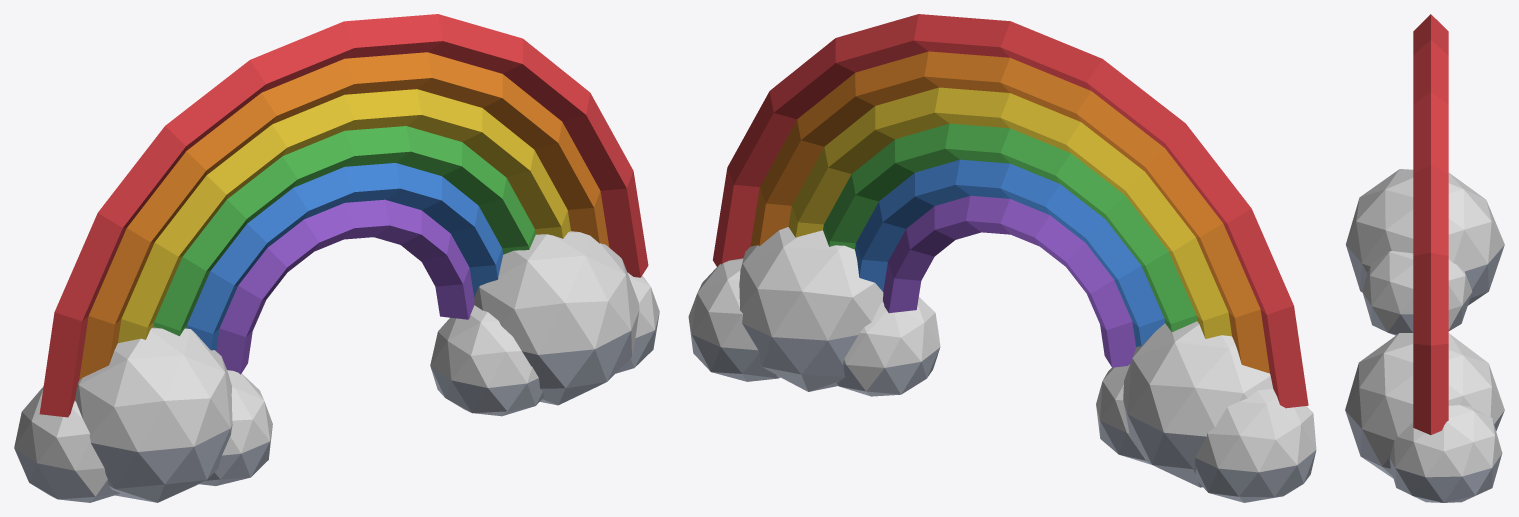
File: habitat_prop_prism.fbx
3 views of the same model, side by side, from view 1: azimuth 30°, elevation 25°; view 2: azimuth 150°, elevation 25°; view 3: azimuth 270°, elevation 25° (orthographic). The views are drawn at different scales.
Parts seen in each view (by area): view 1: habitat_prop_prism; view 2: habitat_prop_prism; view 3: habitat_prop_prism.
Part boxes in pixels (<box>): habitat_prop_prism: <box>14,14,659,502</box>; habitat_prop_prism: <box>688,14,1316,502</box>; habitat_prop_prism: <box>1345,14,1504,502</box>.
Bounding box in the file's own units: 1.86 × 1.17 × 0.4871.
